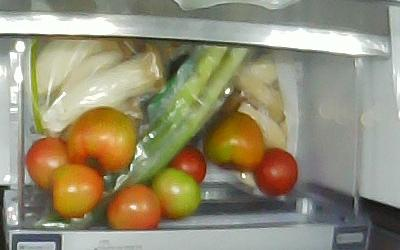tomato: (65, 105, 136, 174), (202, 109, 263, 171), (45, 161, 103, 217), (147, 164, 200, 219), (104, 181, 161, 229), (24, 135, 67, 192), (252, 146, 298, 196), (168, 145, 207, 185)
